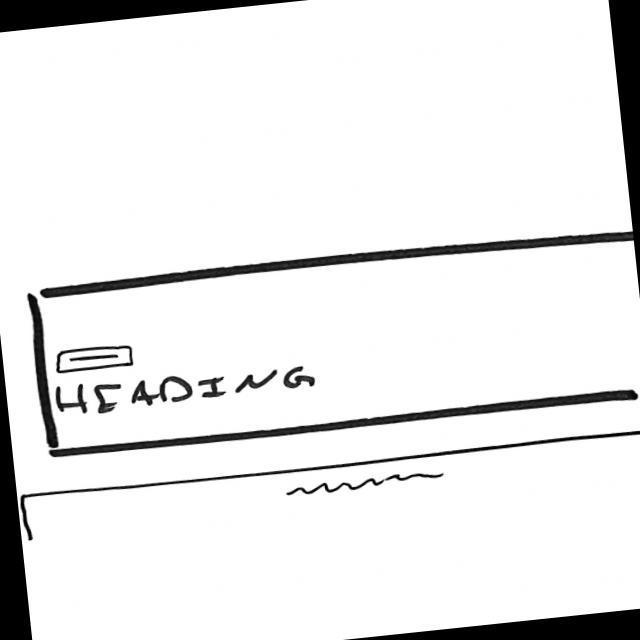container: (23, 222, 640, 464)
icon-button: (51, 339, 141, 376)
label: (52, 356, 319, 424)
text: (283, 466, 447, 505)
